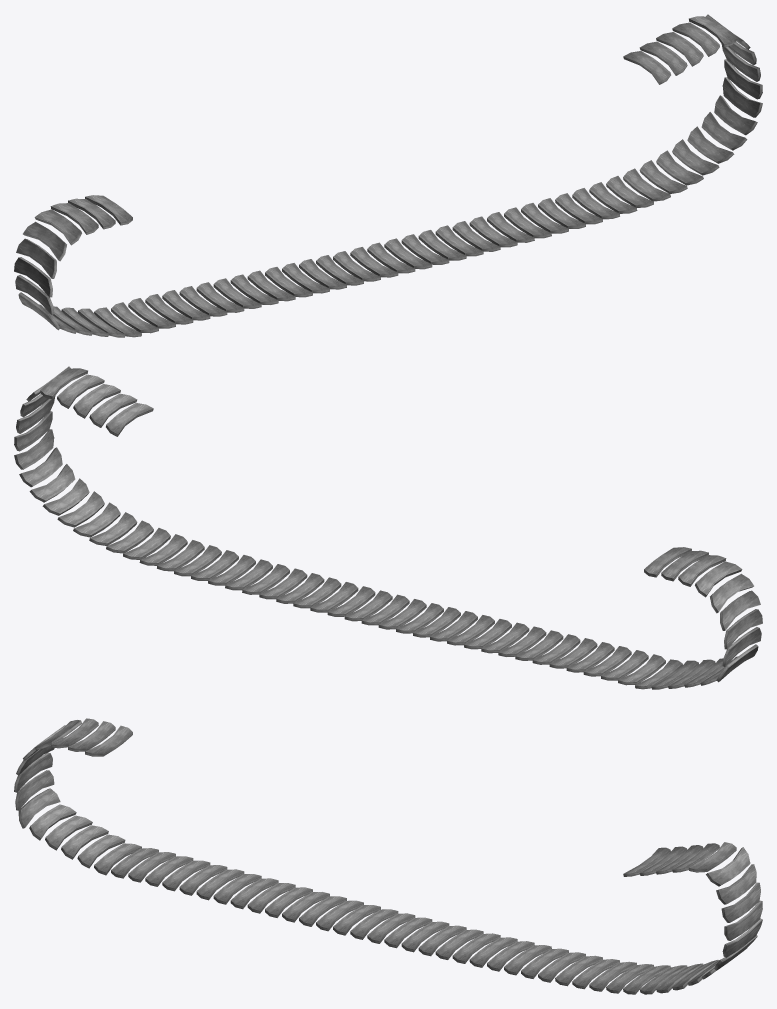
Rendered from tread.obj.
3 renders of one model, top to bottom at view 1: azimuth 30°, elevation 25°; view 2: azimuth 150°, elevation 25°; view 3: azimuth 330°, elevation 25°, orthographic.
Size of the model in its own units: 4.01 by 0.8181 by 0.3462.
